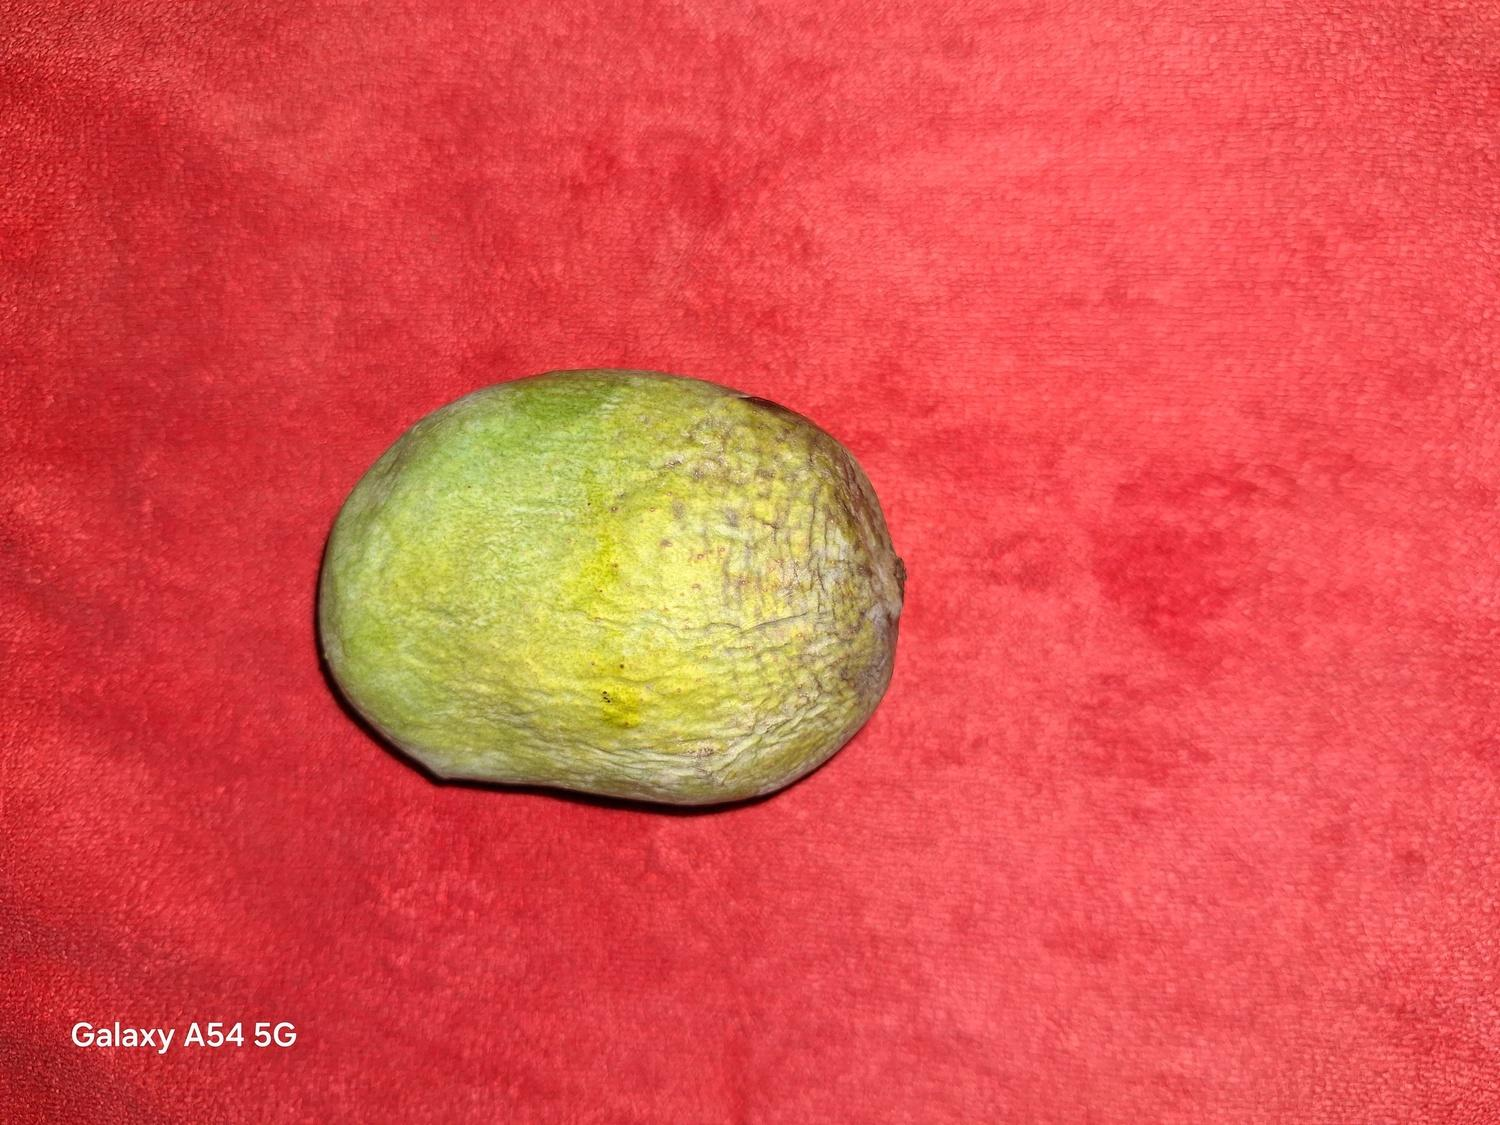mango: (314, 364, 907, 807)
